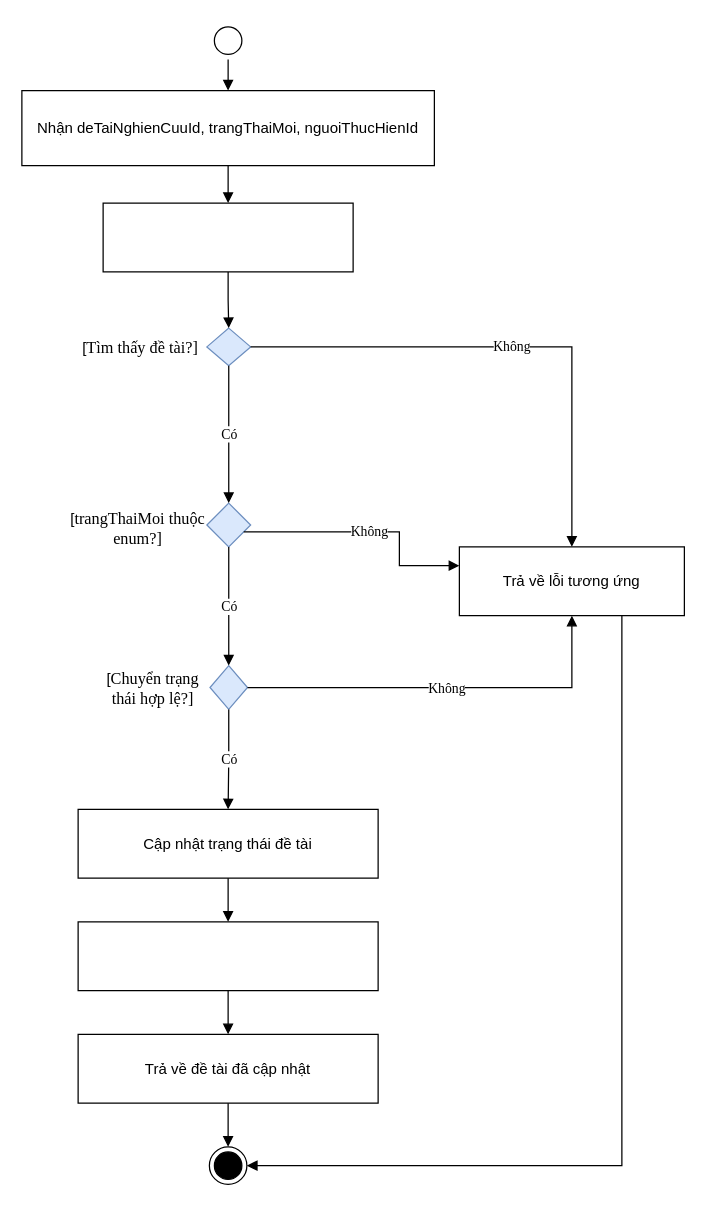
The diagram is 706 pixels wide and 1206 high, and some of its shapes have lost their labels. Here are the shapes that lost their labels. From the top down, the centre of each, then its label:
At (227,237): "Tìm đề tài theo ID".
At (227,956): "Cập nhật thời điểm sửa đổi".
